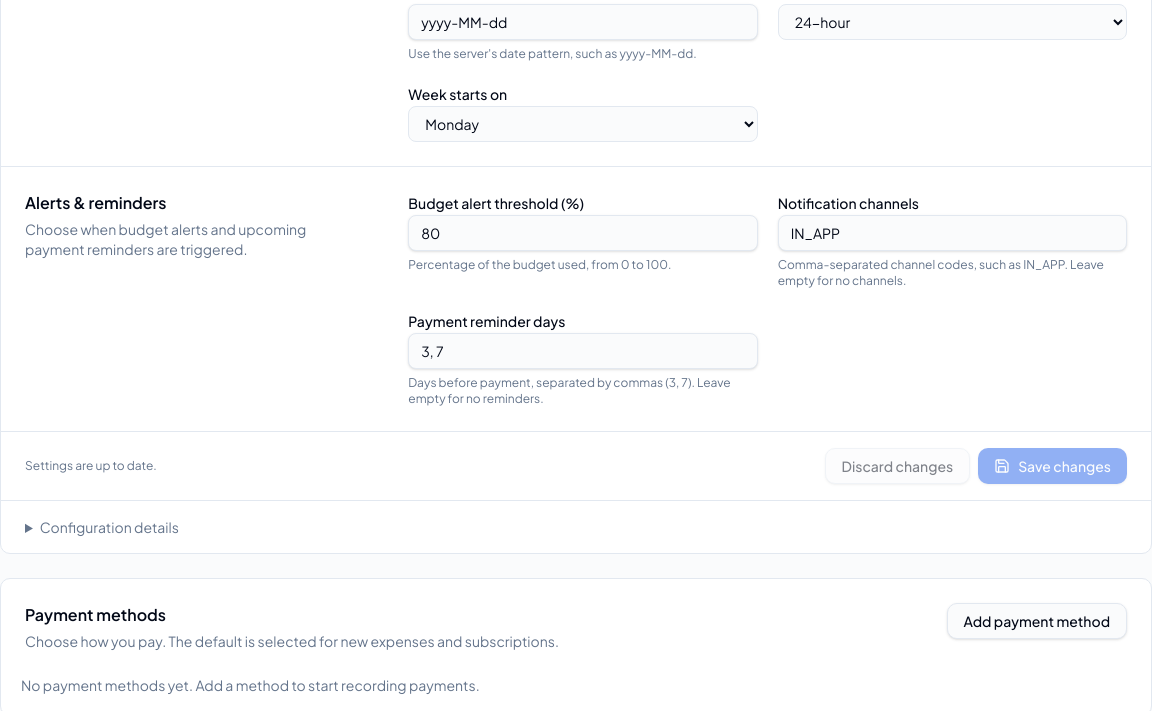
Test case: workspace settings › displays validation failures without updating
(page scrolled)
Type "3, -7" into the field labelled "Payment reminder days" at (583, 351), box [408, 333, 758, 369]
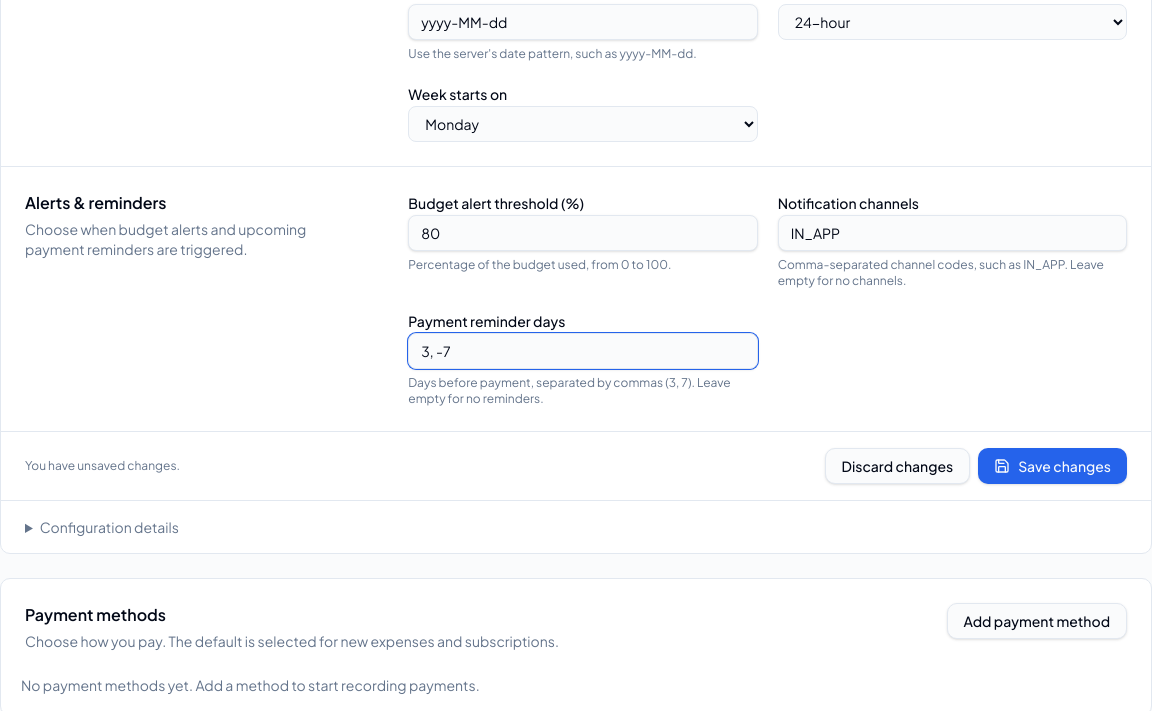
Replace the text in the number field labelled "Budget alert threshold (%)" with "101" at (583, 233), box [408, 215, 758, 251]
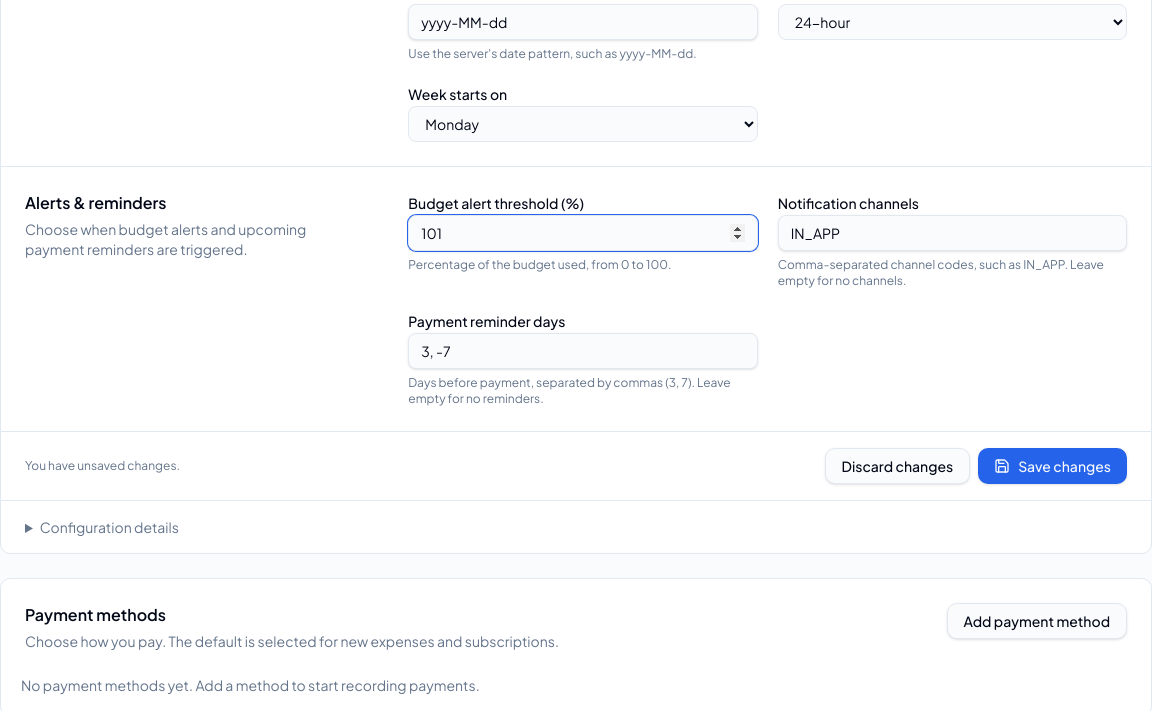
Click the button "Save changes" at (1053, 466), box [978, 448, 1127, 484]
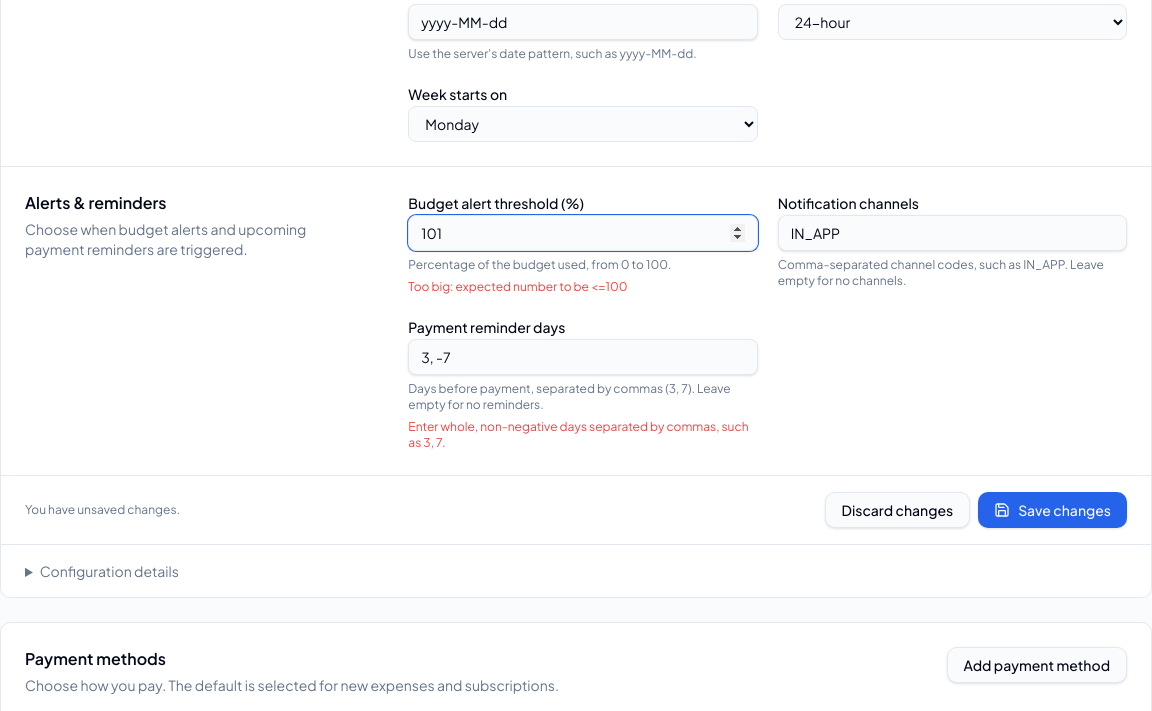
Expected: the text "Enter whole, non-negative days separated by commas, such as 3, 7." is shown, [408, 419, 758, 451]
